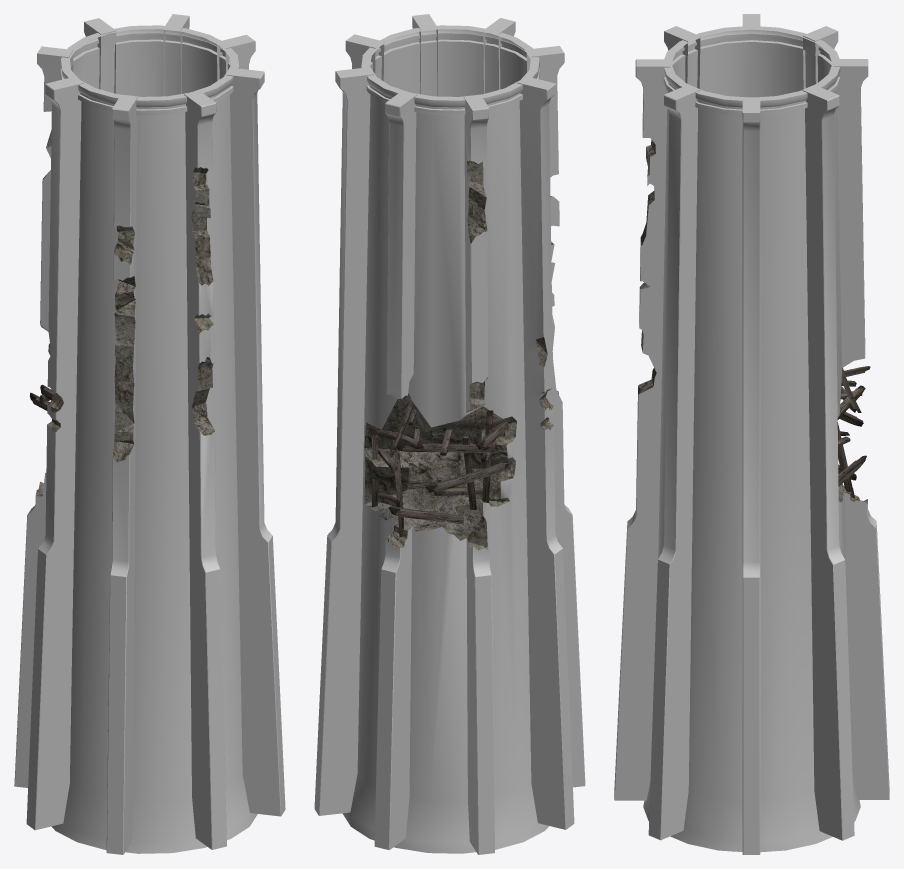
The model's file is SM_ExtCastle_D.FBX.
3 renders of one model, left to right at view 1: azimuth 30°, elevation 25°; view 2: azimuth 150°, elevation 25°; view 3: azimuth 270°, elevation 25°, orthographic.
Parts seen in each view (by area): view 1: SM_ExtCastle_D; view 2: SM_ExtCastle_D; view 3: SM_ExtCastle_D.
Part boxes in pixels (x1,y1,x2,y2): SM_ExtCastle_D: [14, 14, 285, 854]; SM_ExtCastle_D: [314, 14, 585, 854]; SM_ExtCastle_D: [614, 14, 889, 854].
Size of what is drawn, in the model's own units: 4836 by 4833 by 14393.
